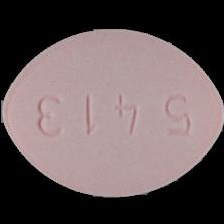68788-9927: (0, 0, 224, 224)
